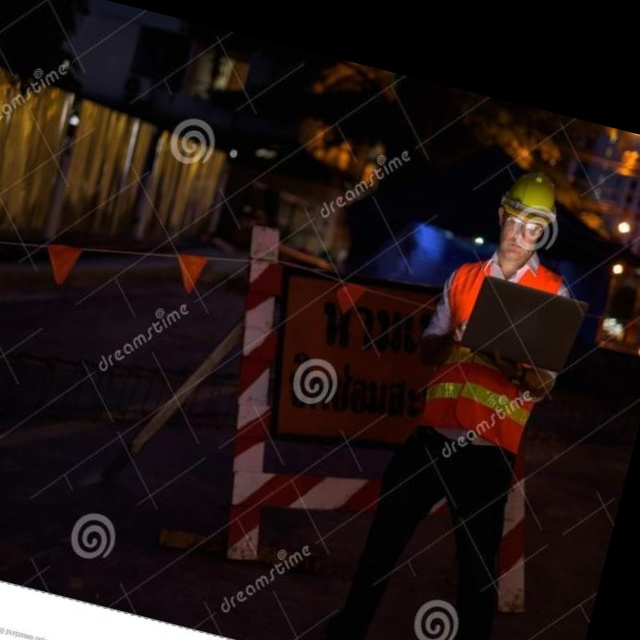Con_Casco: (492, 164, 567, 263)
Con_Chaleco: (417, 246, 570, 449)
